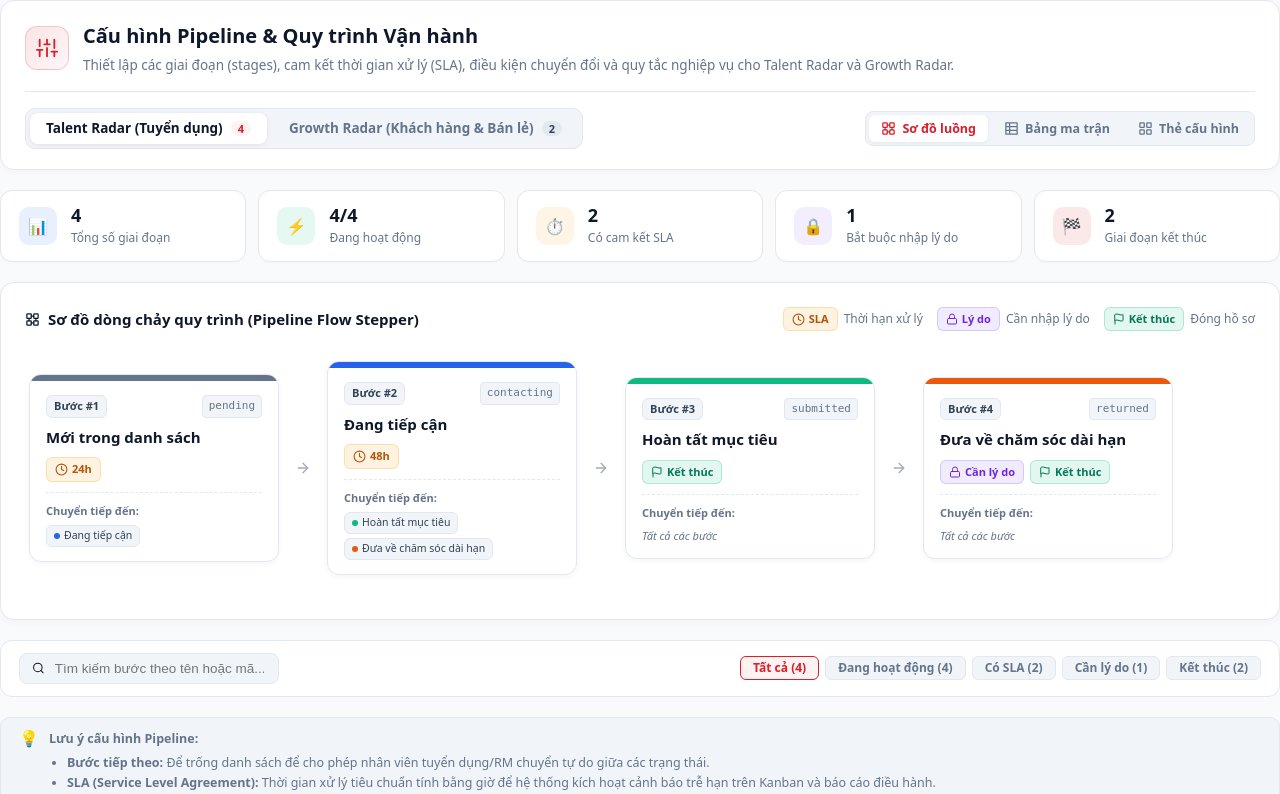
Scenario: Workflows Pipeline Configuration Studio › chuyển đổi giữa các chế độ xem Sơ đồ luồng, Bảng ma trận và Thẻ cấu hình
Note: Chuyển sang Bảng ma trận
Click the button "Bảng ma trận".
click(1057, 129)  # box top-left (992, 115), bottom-right (1122, 142)
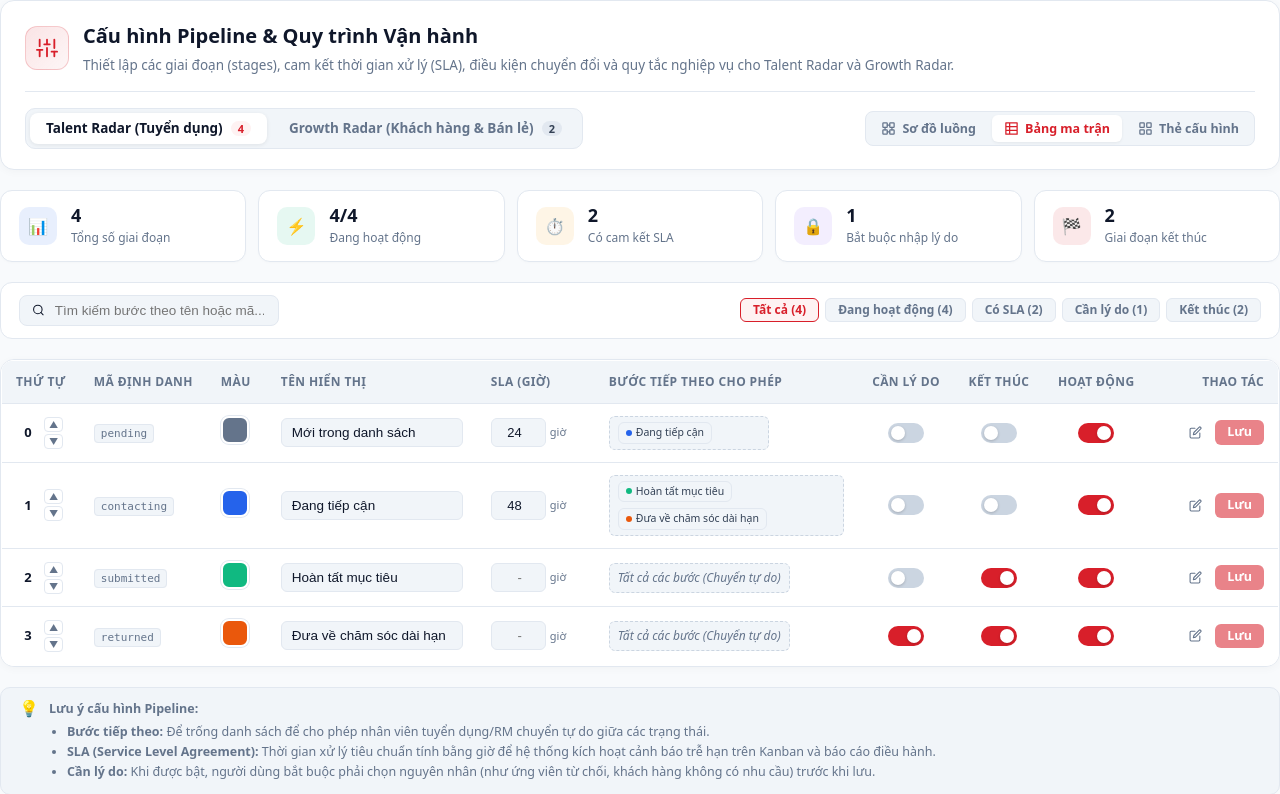
expect the column heading "Mã định danh" is shown: met, box top-left (80, 360), bottom-right (207, 403)
expect the column heading "Bước tiếp theo cho phép" is shown: met, box top-left (595, 360), bottom-right (858, 403)
Note: Chuyển sang Thẻ cấu hình
Click the button "Thẻ cấu hình".
click(1188, 129)  # box top-left (1126, 115), bottom-right (1251, 142)
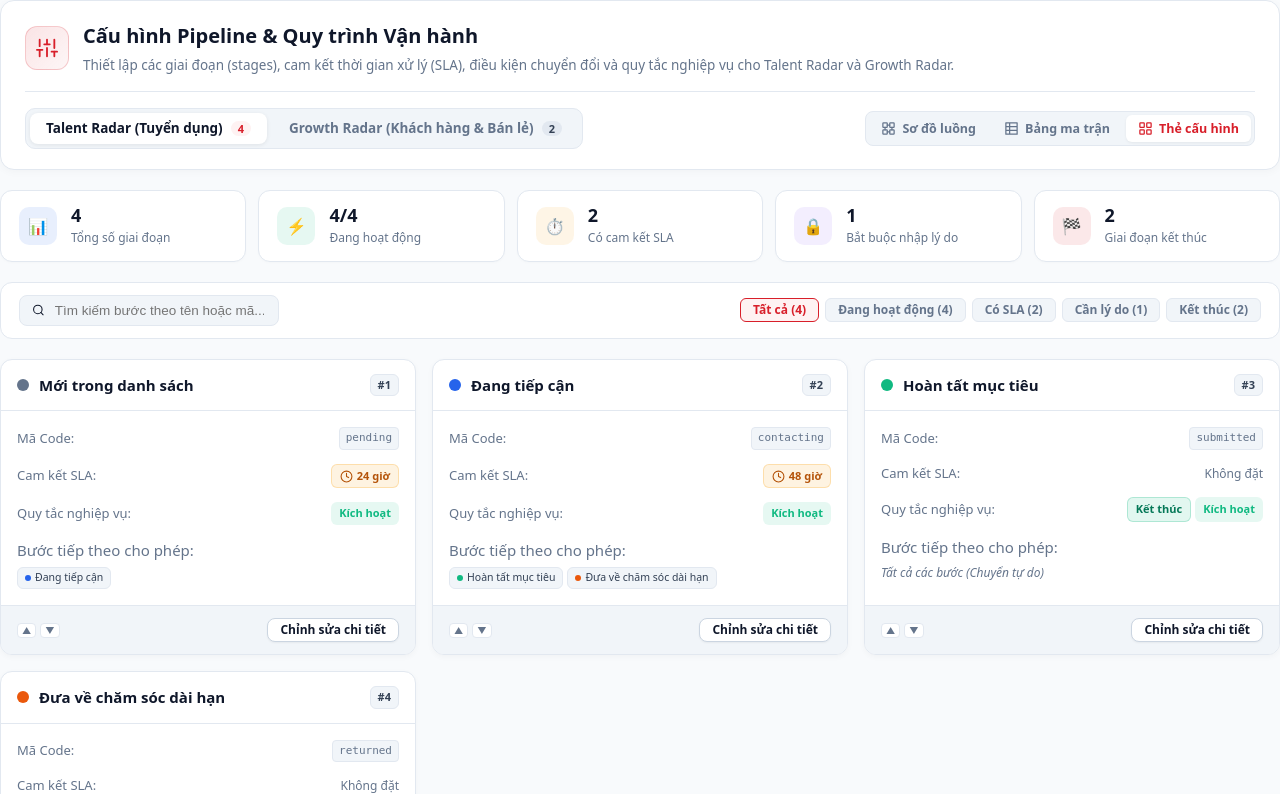
expect the button "Chỉnh sửa chi tiết" below "24" is shown: met, box top-left (268, 618), bottom-right (399, 642)
